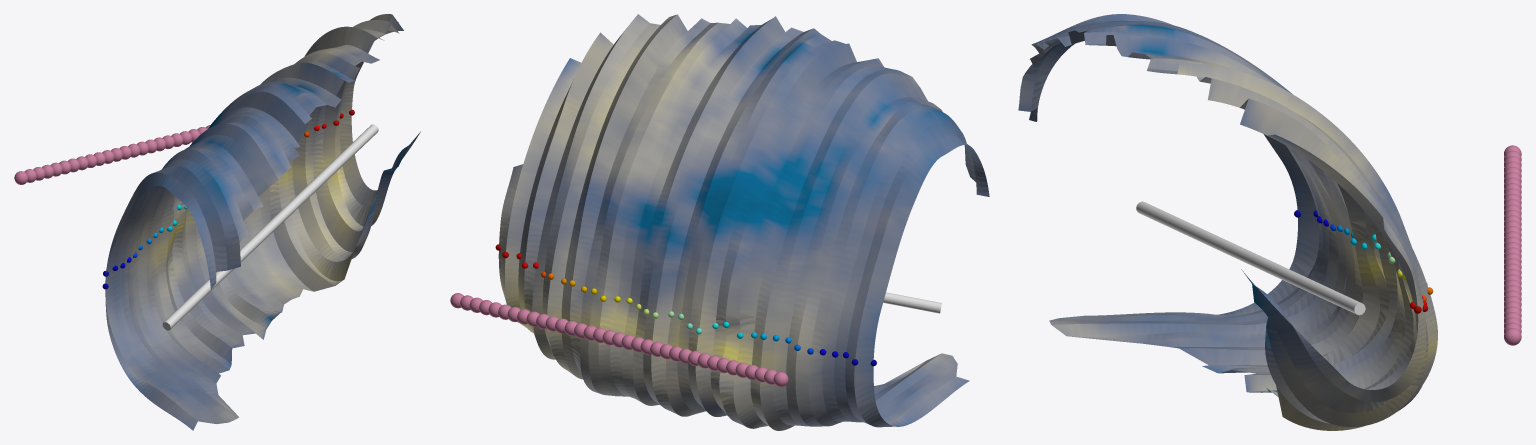
File: Cividis_data_vole_65_7E_id2_L23.gltf
3 views of the same model, side by side, from view 1: azimuth 30°, elevation 25°; view 2: azimuth 150°, elevation 25°; view 3: azimuth 270°, elevation 25° (orthographic). The views are drawn at different scales.
Size of the model in its own units: 3.54 by 3.45 by 3.96.
